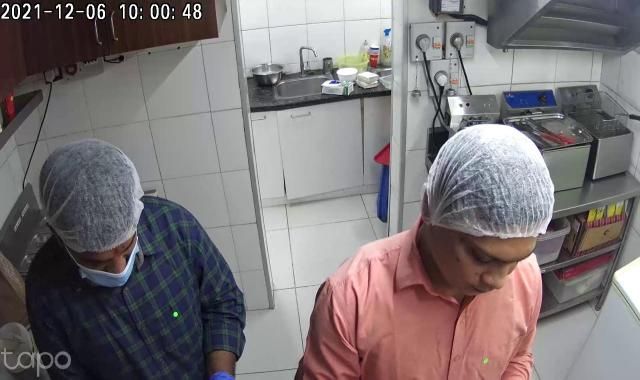hairnet: (425, 118, 555, 240), (36, 145, 146, 249)
